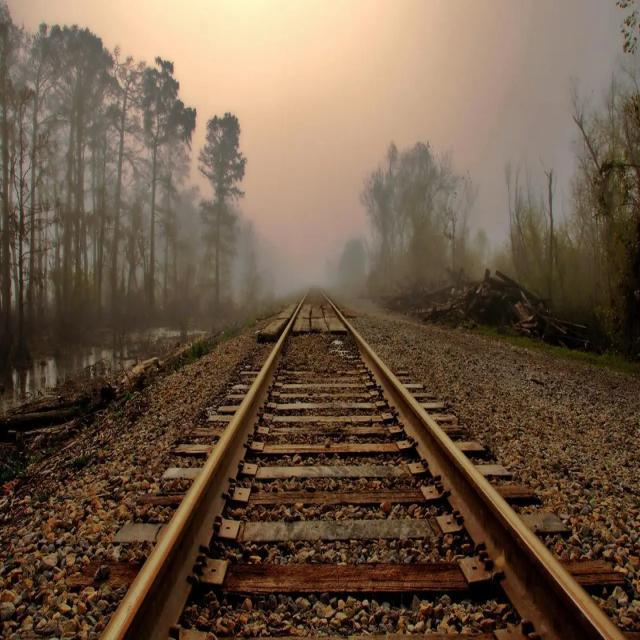Branches: (297, 298, 343, 342)
